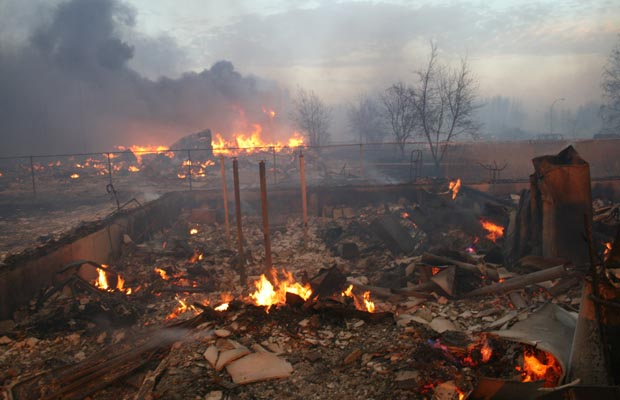fire: (212, 120, 305, 156), (250, 273, 311, 304), (522, 347, 557, 380), (129, 139, 182, 159)
smoke: (13, 13, 234, 128), (460, 25, 592, 128), (313, 21, 403, 144)
